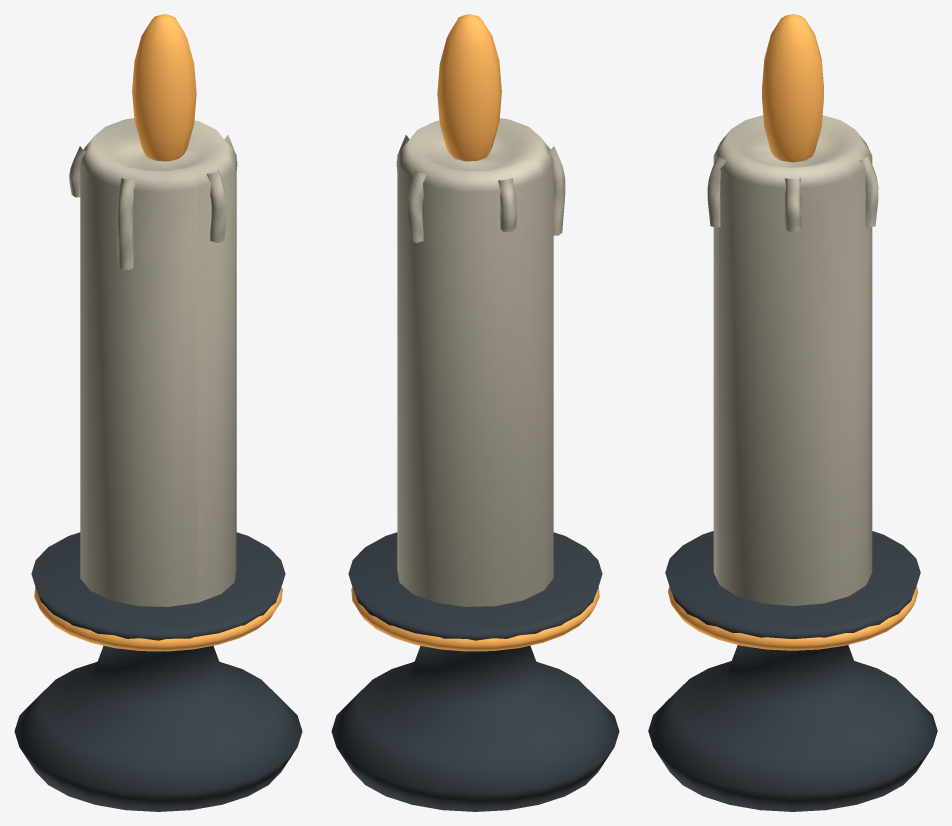
File: hollowwick-halloween-tall-pillar-candle-273a826d__21622.glb
3 renders of one model, left to right at view 1: azimuth 30°, elevation 25°; view 2: azimuth 150°, elevation 25°; view 3: azimuth 270°, elevation 25°, orthographic.
Visible parts, largest first — view 1: tall-pillar-candle; view 2: tall-pillar-candle; view 3: tall-pillar-candle.
Boxes of the visible parts, bbox=[...] form: tall-pillar-candle: bbox=[14, 14, 302, 811]; tall-pillar-candle: bbox=[331, 14, 619, 811]; tall-pillar-candle: bbox=[648, 14, 937, 811].
Bounding box in the file's own units: 0.34 × 0.9673 × 0.34.
3 materials, 1 textured.
